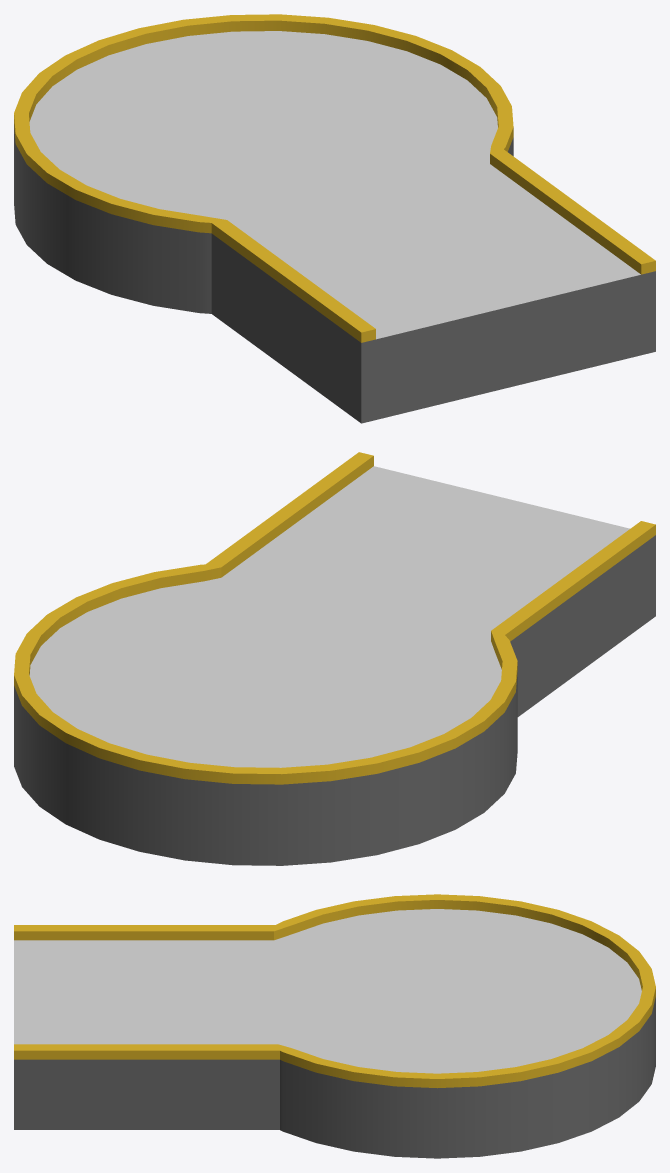
The model's file is Platform_Start_End.fbx.
3 views of the same model, one above another, from view 1: azimuth 30°, elevation 25°; view 2: azimuth 150°, elevation 25°; view 3: azimuth 270°, elevation 25° (orthographic). The views are drawn at different scales.
Visible parts, largest first — view 1: Platform_Start_End; view 2: Platform_Start_End; view 3: Platform_Start_End.
Part boxes in pixels (x1,y1,x2,y2): Platform_Start_End: [14, 14, 655, 423]; Platform_Start_End: [14, 452, 655, 865]; Platform_Start_End: [14, 894, 655, 1158].
Size of the model in its own units: 1755 by 352 by 2577.
